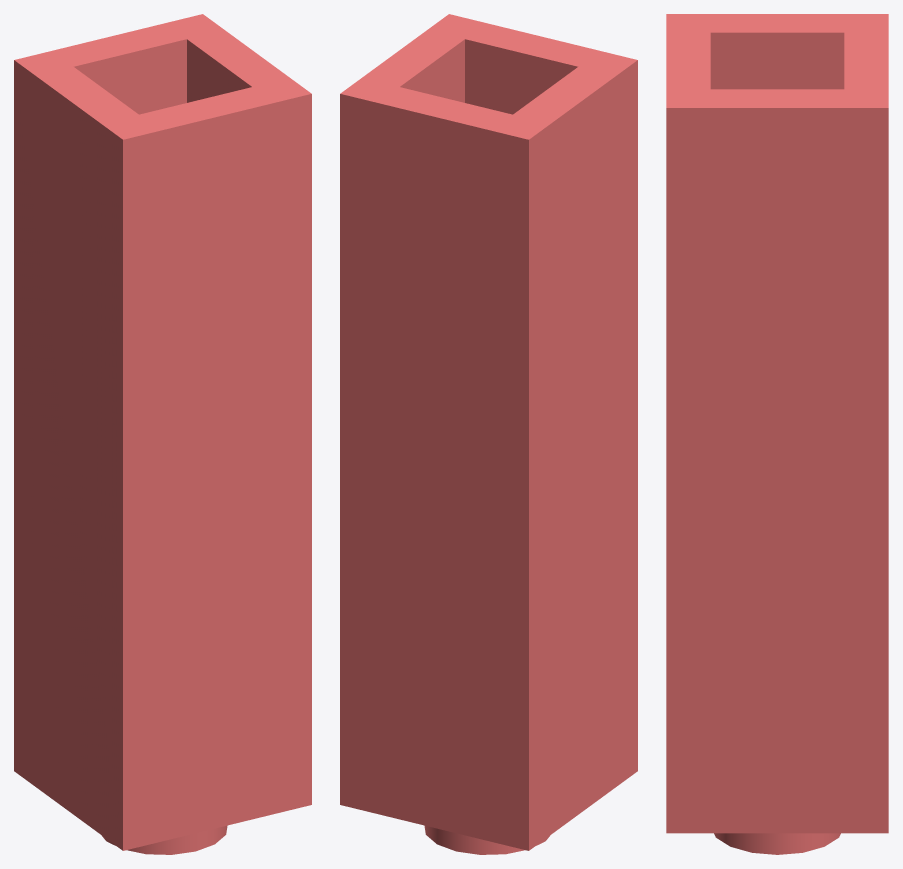
3 renders of one model, left to right at view 1: azimuth 30°, elevation 25°; view 2: azimuth 150°, elevation 25°; view 3: azimuth 270°, elevation 25°, orthographic. The views are drawn at different scales.
Parts seen in each view (by area): view 1: LDrawPart; view 2: LDrawPart; view 3: LDrawPart.
Part boxes in pixels (x1=…): LDrawPart: x1=14, y1=14, x2=311, y2=854; LDrawPart: x1=340, y1=14, x2=637, y2=854; LDrawPart: x1=666, y1=14, x2=888, y2=854.
Bounding box in the file's own units: 0.14 × 0.532 × 0.14.
